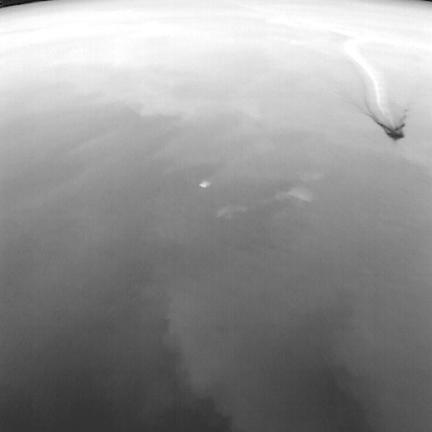flukeprints: (199, 181, 209, 186)
